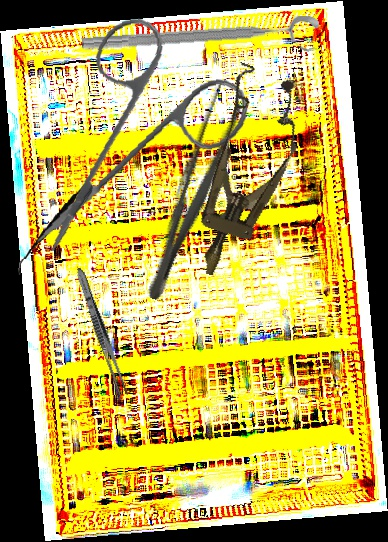Dressing Forceps: (136, 80, 250, 306), (72, 265, 131, 399)
Fixation Ring: (80, 14, 322, 70)
Iris Scissors: (10, 6, 264, 253)
Spatula Surgical: (17, 162, 94, 282)
Speculum: (168, 61, 318, 288)
